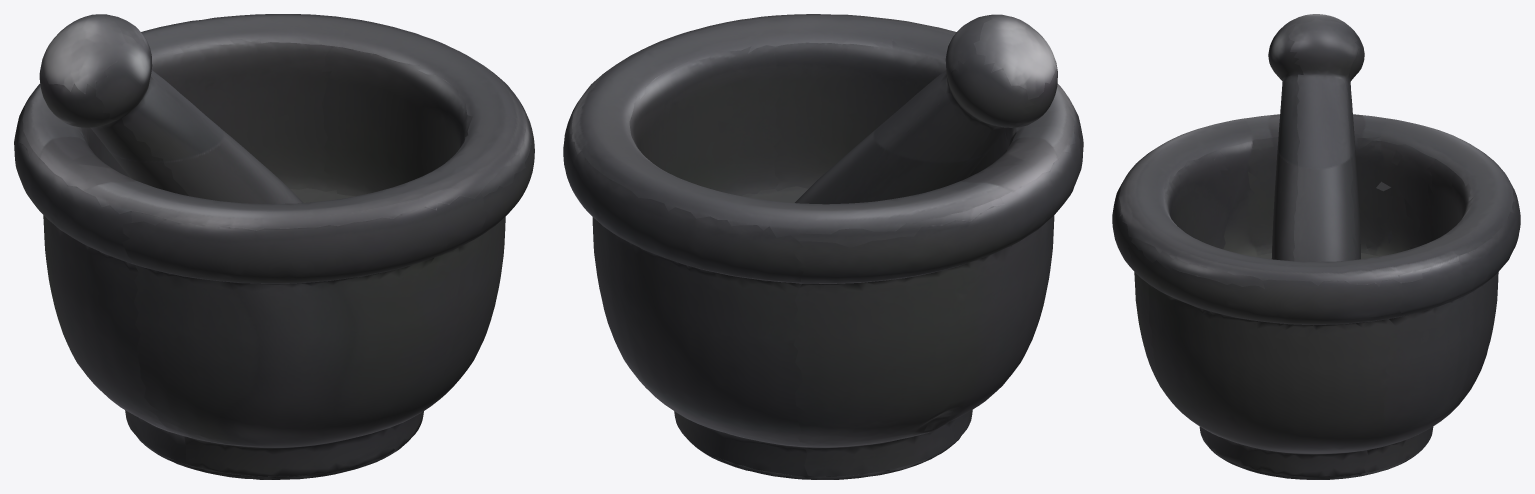
Rendered from mortar_glb.glb.
3 views of the same model, side by side, from view 1: azimuth 30°, elevation 25°; view 2: azimuth 150°, elevation 25°; view 3: azimuth 270°, elevation 25° (orthographic). The views are drawn at different scales.
Visible parts, largest first — view 1: geometry_0; view 2: geometry_0; view 3: geometry_0.
Part boxes in pixels (x1,y1,x2,y2): geometry_0: [14, 14, 534, 479]; geometry_0: [563, 14, 1083, 479]; geometry_0: [1112, 14, 1520, 479].
Bounding box in the file's own units: 0.12 × 0.1126 × 0.1194.
Materials: 1 (1 with a texture image).
